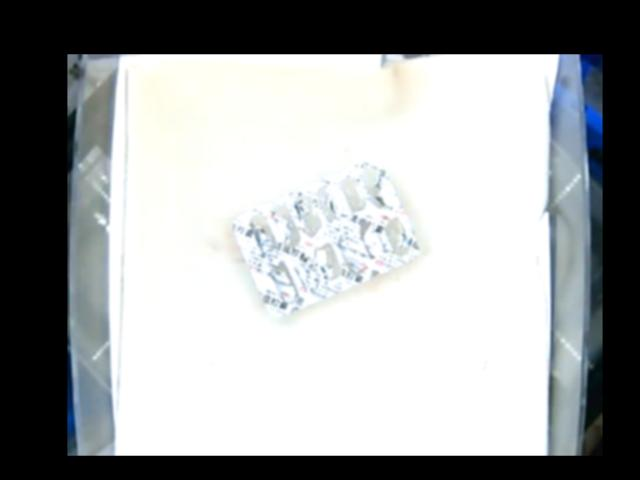Medicine: (237, 159, 421, 314)
